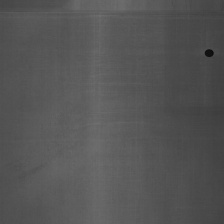punching_hole: (1, 5, 222, 20), (203, 46, 215, 59)
